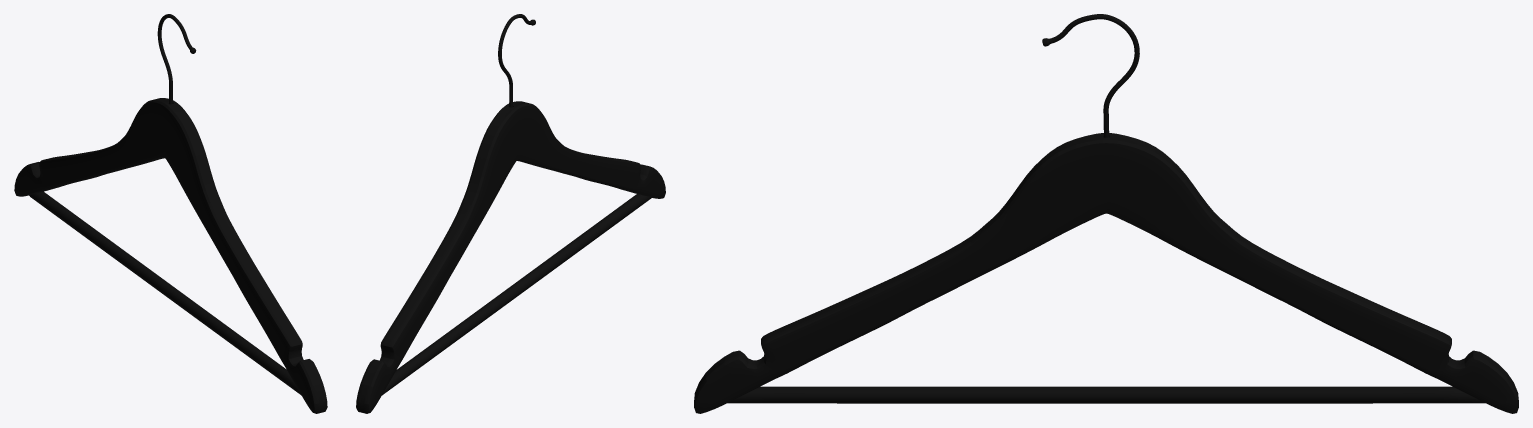
Rendered from wieszak 230.fbx.
The picture shows the model from 3 angles, left to right: view 1: azimuth 30°, elevation 25°; view 2: azimuth 150°, elevation 25°; view 3: azimuth 270°, elevation 25°; orthographic projection. The views are drawn at different scales.
Parts seen in each view (by area): view 1: wieszak 230; view 2: wieszak 230; view 3: wieszak 230.
Boxes of the visible parts, x1,y1,x2,y2 form: wieszak 230: (14,14,327,413); wieszak 230: (356,14,665,413); wieszak 230: (694,14,1518,413).
Size of the model in its own units: 0.4045 by 7.84 by 14.77.
